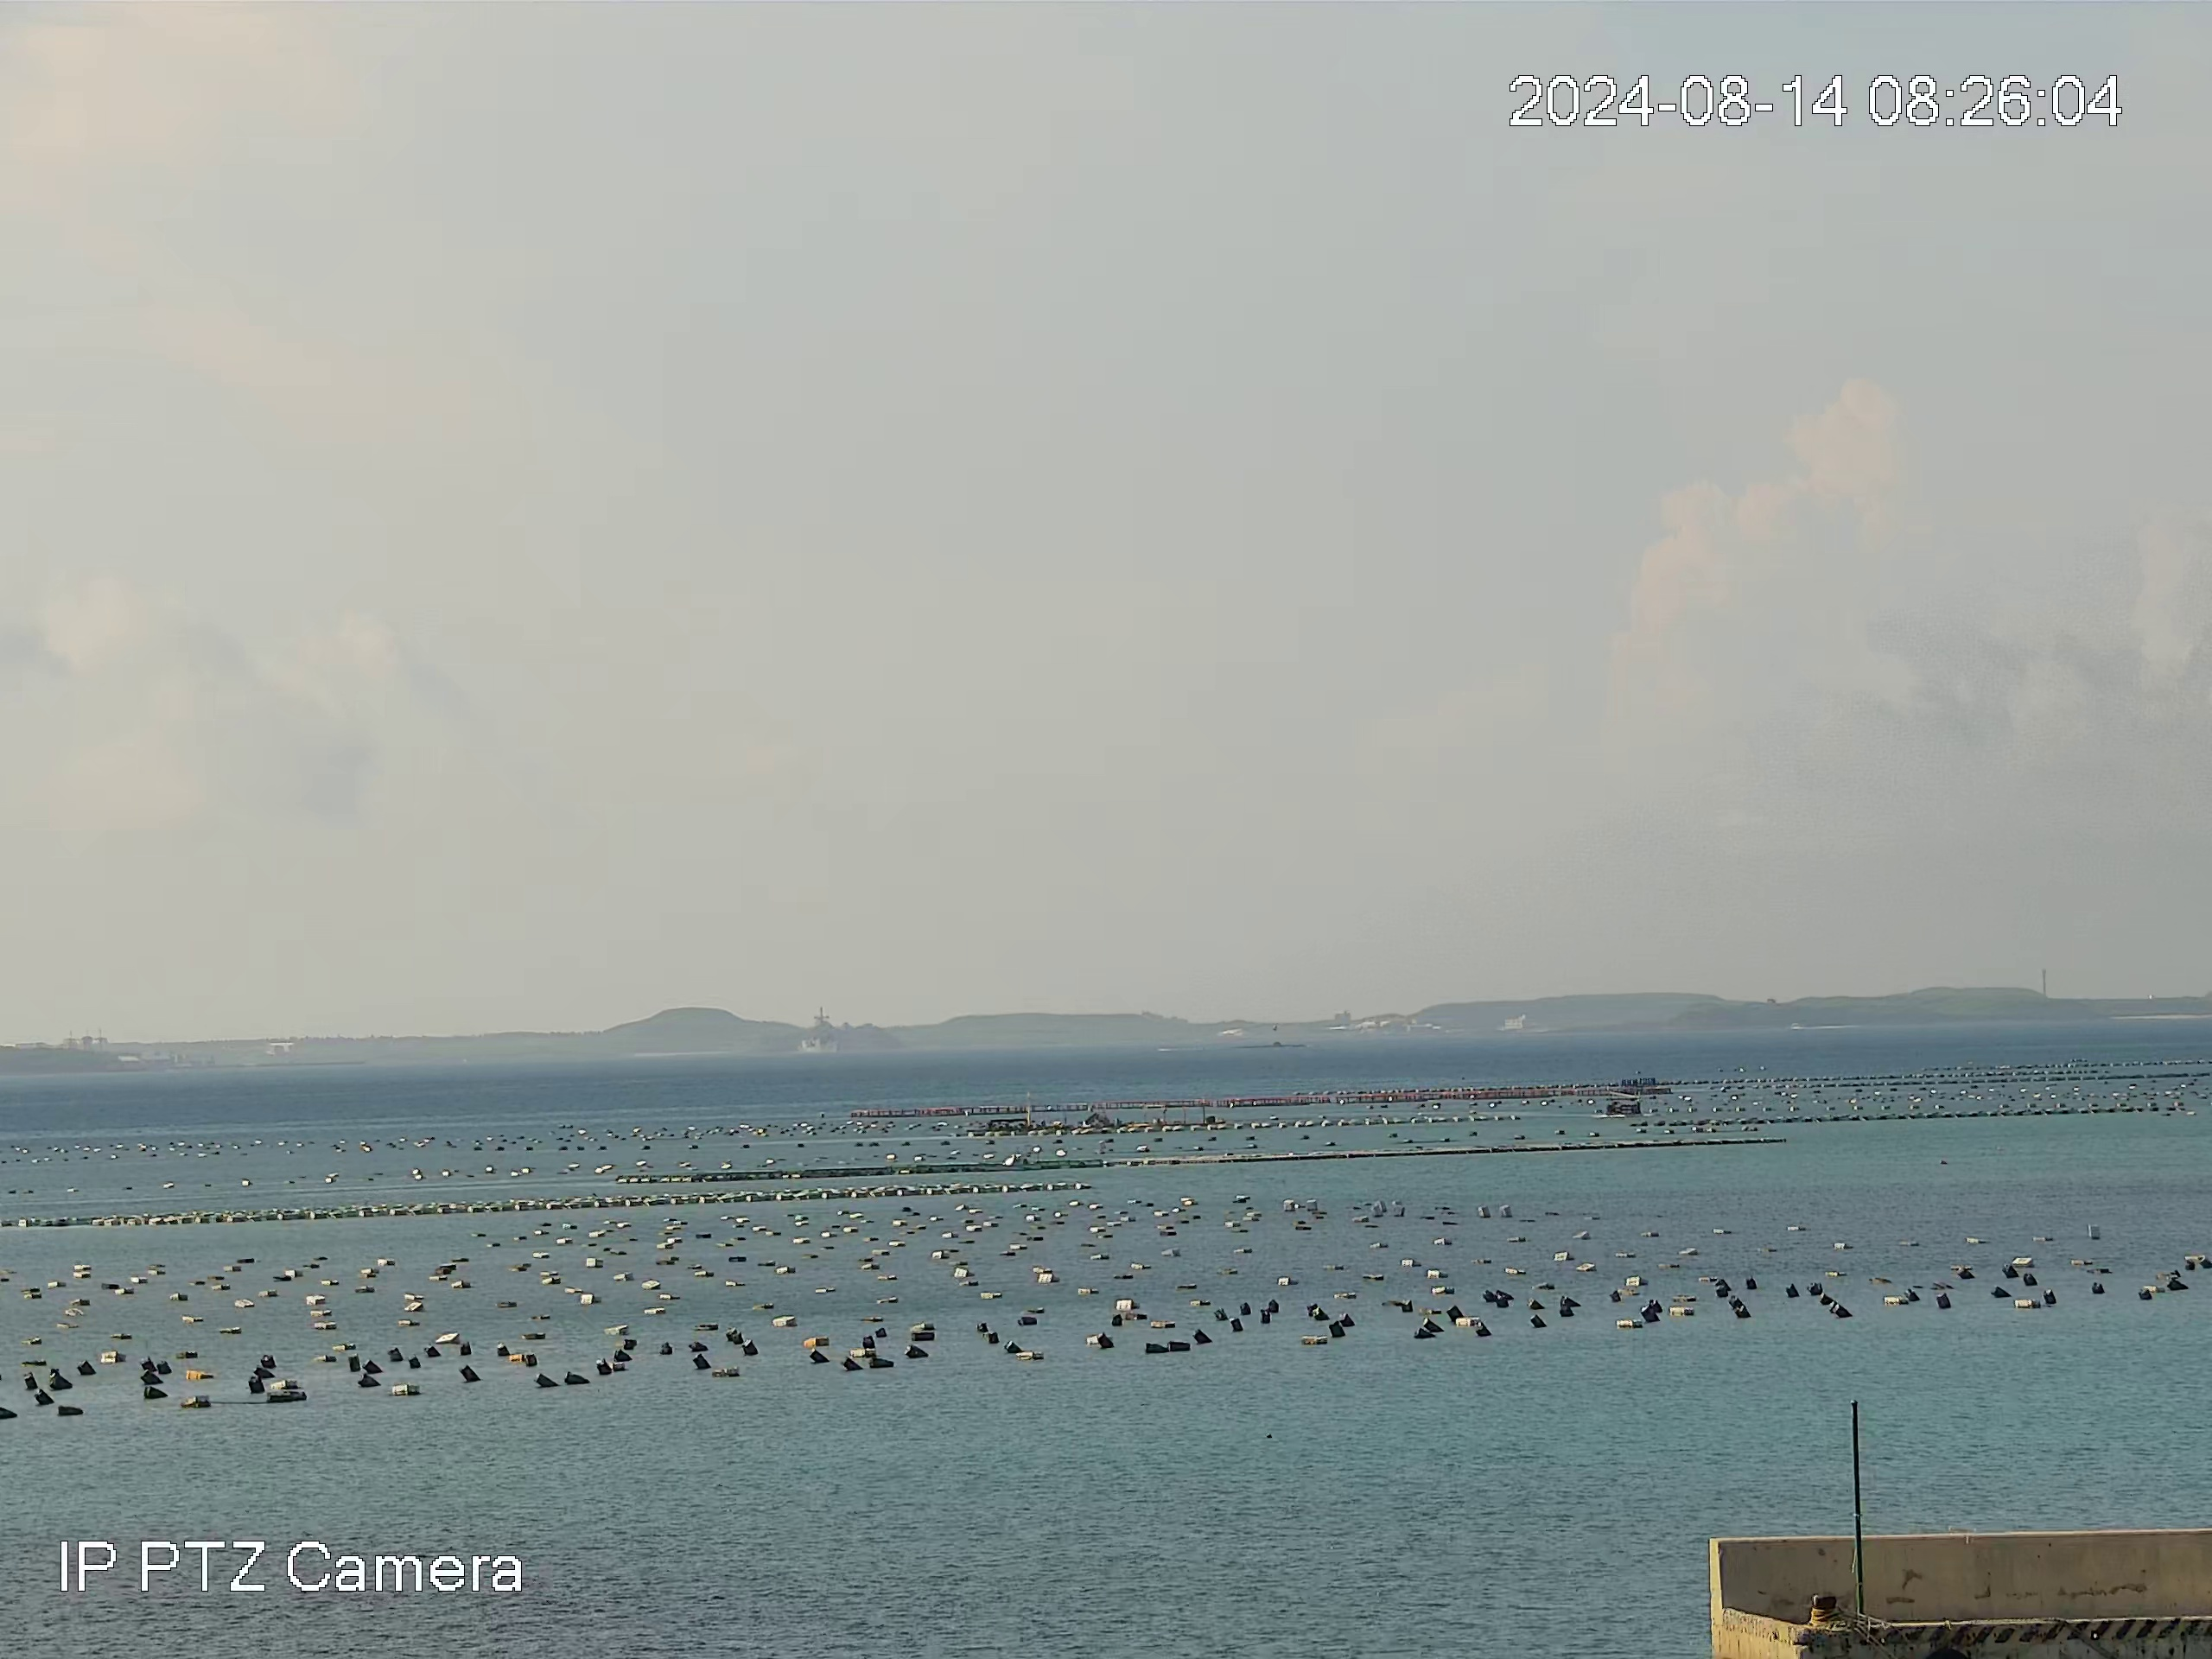boat: (1597, 1091, 1649, 1117)
